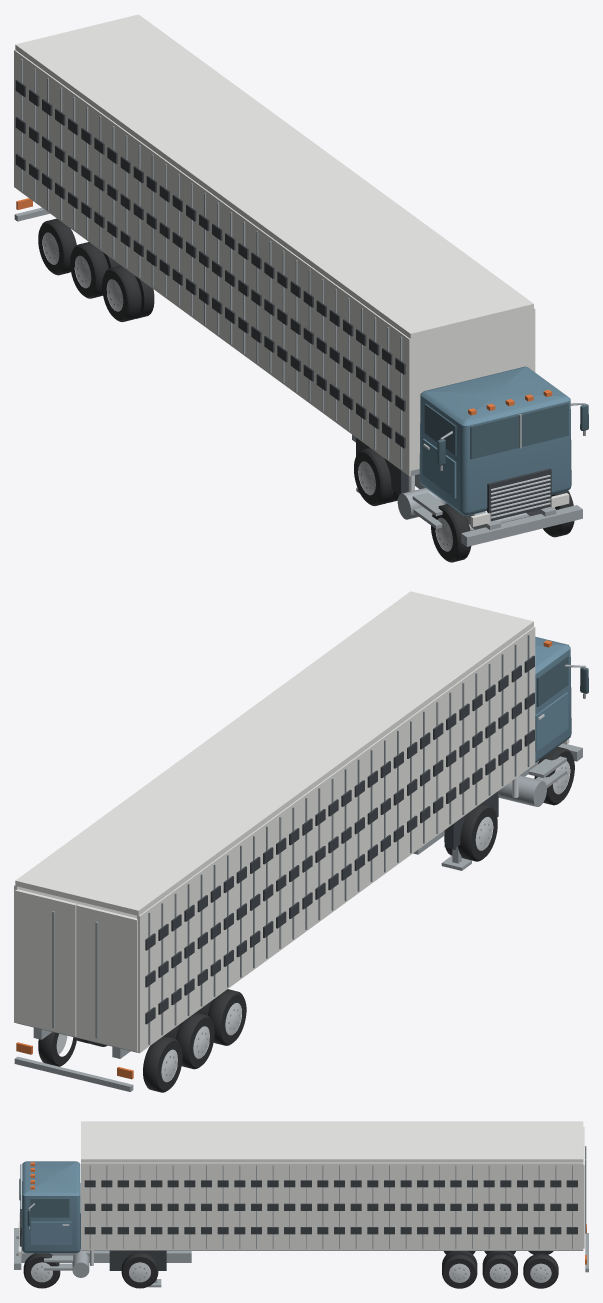
File: long-haul-trucking-and-truck-stop-trailer-connector-ca-17326ea4__14033.glb
3 renders of one model, top to bottom at view 1: azimuth 30°, elevation 25°; view 2: azimuth 150°, elevation 25°; view 3: azimuth 270°, elevation 25°, orthographic. The views are drawn at different scales.
Parts seen in each view (by area): view 1: 001-livestock-trailer/20, 001-livestock-trailer/21, 000-cabover-day-cab/13, 001-livestock-trailer/18, 000-cabover-day-cab/16, 000-cabover-day-cab/12, 000-cabover-day-cab/14, 001-livestock-trailer/wheel-2--1/rubber, 000-cabover-day-cab/wheel-1--1/rubber, 000-cabover-day-cab/15, 001-livestock-trailer/wheel-1--1/rubber, 001-livestock-trailer/wheel-0--1/rubber (+2 smaller); view 2: 001-livestock-trailer/20, 001-livestock-trailer/21, 001-livestock-trailer/18, 001-livestock-trailer/rear-door--1, 001-livestock-trailer/rear-door-1, 000-cabover-day-cab/12, 000-cabover-day-cab/13, 001-livestock-trailer/wheel-0--1/rubber, 000-cabover-day-cab/wheel-1--1/rubber, 001-livestock-trailer/wheel-2--1/rubber, 001-livestock-trailer/wheel-1--1/rubber, 000-cabover-day-cab/cab-door--1 (+4 smaller); view 3: 001-livestock-trailer/20, 001-livestock-trailer/21, 001-livestock-trailer/18, 000-cabover-day-cab/13, 000-cabover-day-cab/12, 000-cabover-day-cab/cab-door-1, 000-cabover-day-cab/16, 001-livestock-trailer/wheel-1-1/rubber, 001-livestock-trailer/wheel-2-1/rubber, 000-cabover-day-cab/14, 000-cabover-day-cab/wheel-1-1/rubber, 001-livestock-trailer/wheel-0-1/rubber (+6 smaller).
Part boxes in pixels (box(x1,y1,x2,y2)): 001-livestock-trailer/20: box(14, 14, 535, 476); 001-livestock-trailer/21: box(15, 80, 405, 448); 000-cabover-day-cab/13: box(419, 366, 571, 515); 001-livestock-trailer/18: box(14, 59, 419, 493); 000-cabover-day-cab/16: box(424, 403, 588, 465); 000-cabover-day-cab/12: box(352, 403, 585, 546); 000-cabover-day-cab/14: box(356, 437, 551, 521); 001-livestock-trailer/wheel-2--1/rubber: box(102, 265, 154, 322); 000-cabover-day-cab/wheel-1--1/rubber: box(354, 448, 398, 505); 000-cabover-day-cab/15: box(408, 443, 550, 518); 001-livestock-trailer/wheel-1--1/rubber: box(70, 242, 120, 298); 001-livestock-trailer/wheel-0--1/rubber: box(38, 218, 76, 275); 001-livestock-trailer/20: box(14, 591, 535, 1053); 001-livestock-trailer/21: box(145, 655, 534, 1024); 001-livestock-trailer/18: box(14, 634, 529, 1091); 001-livestock-trailer/rear-door--1: box(76, 904, 137, 1051); 001-livestock-trailer/rear-door-1: box(15, 889, 77, 1036); 000-cabover-day-cab/12: box(413, 664, 585, 854); 000-cabover-day-cab/13: box(535, 637, 571, 762); 001-livestock-trailer/wheel-0--1/rubber: box(143, 1036, 182, 1092); 000-cabover-day-cab/wheel-1--1/rubber: box(444, 803, 497, 861); 001-livestock-trailer/wheel-2--1/rubber: box(196, 989, 246, 1045); 001-livestock-trailer/wheel-1--1/rubber: box(164, 1012, 214, 1069); 000-cabover-day-cab/cab-door--1: box(535, 692, 568, 751); 001-livestock-trailer/20: box(81, 1121, 583, 1250); 001-livestock-trailer/21: box(84, 1180, 577, 1234); 001-livestock-trailer/18: box(81, 1146, 588, 1287); 000-cabover-day-cab/13: box(21, 1161, 80, 1253); 000-cabover-day-cab/12: box(14, 1178, 191, 1277); 000-cabover-day-cab/cab-door-1: box(31, 1221, 71, 1244); 000-cabover-day-cab/16: box(20, 1164, 69, 1226); 001-livestock-trailer/wheel-1-1/rubber: box(482, 1251, 517, 1288); 001-livestock-trailer/wheel-2-1/rubber: box(442, 1251, 477, 1288); 000-cabover-day-cab/14: box(20, 1209, 166, 1270); 000-cabover-day-cab/wheel-1-1/rubber: box(121, 1252, 158, 1288); 001-livestock-trailer/wheel-0-1/rubber: box(523, 1253, 558, 1288).
Bounding box in the file's own units: 3 × 3.9 × 15.56.
